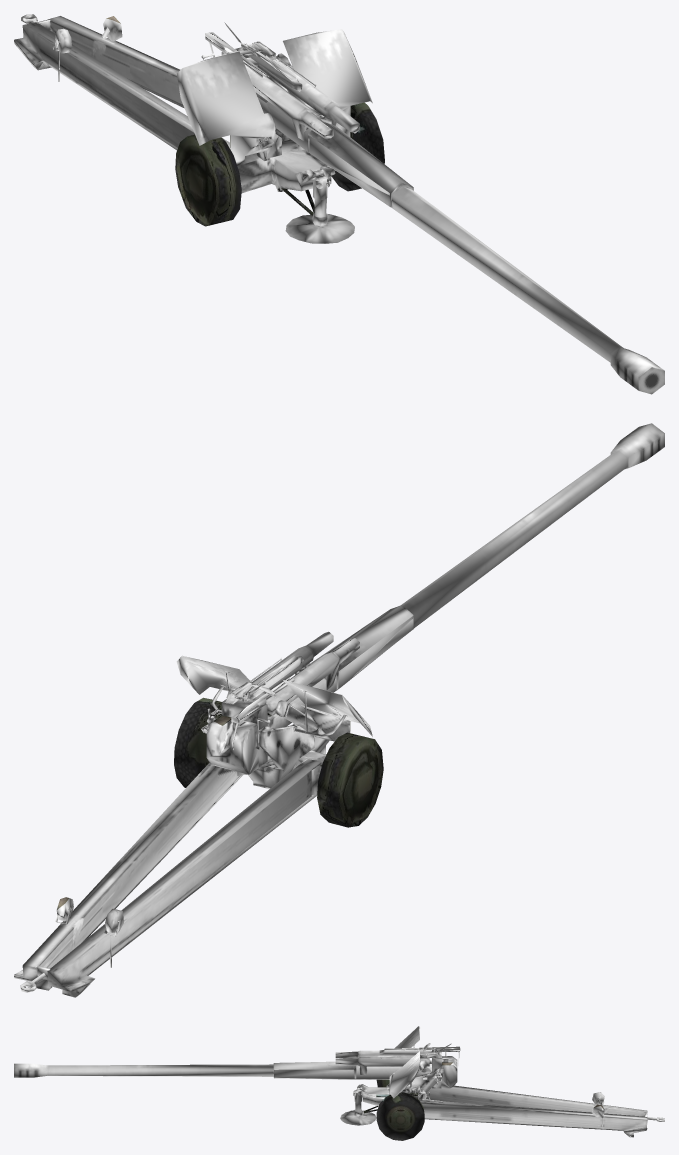
File: realistic-by.8b3ffbd28d38.howitzer.glb
The picture shows the model from 3 angles, top to bottom: view 1: azimuth 30°, elevation 25°; view 2: azimuth 150°, elevation 25°; view 3: azimuth 270°, elevation 25°; orthographic projection. The views are drawn at different scales.
Parts seen in each view (by area): view 1: howitzer; view 2: howitzer; view 3: howitzer.
Part boxes in pixels (box(x1,y1,x2,y2)): howitzer: box(14, 14, 664, 394); howitzer: box(14, 423, 664, 997); howitzer: box(14, 1026, 664, 1140).
Size of the model in its own units: 1.93 by 1.8 by 12.
2 materials, 2 textured.
